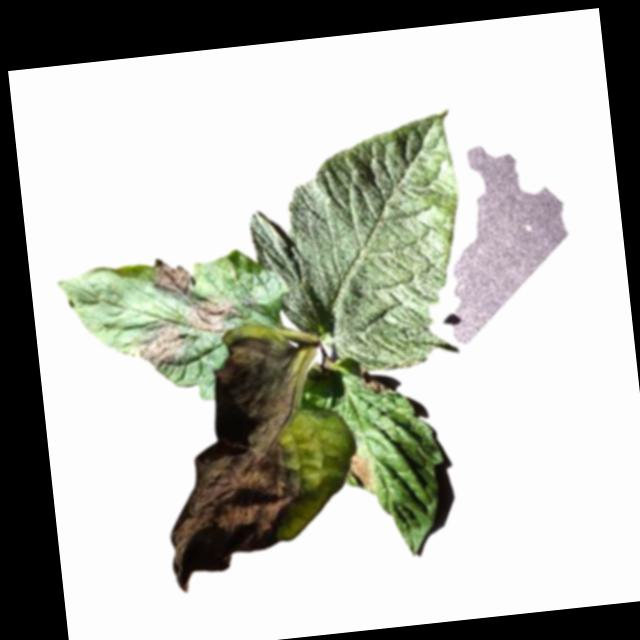Late_blight: (146, 320, 315, 593), (122, 315, 189, 372), (182, 292, 242, 336), (148, 253, 195, 302), (344, 449, 373, 493), (357, 366, 388, 396)
healthy: (239, 106, 477, 382)
